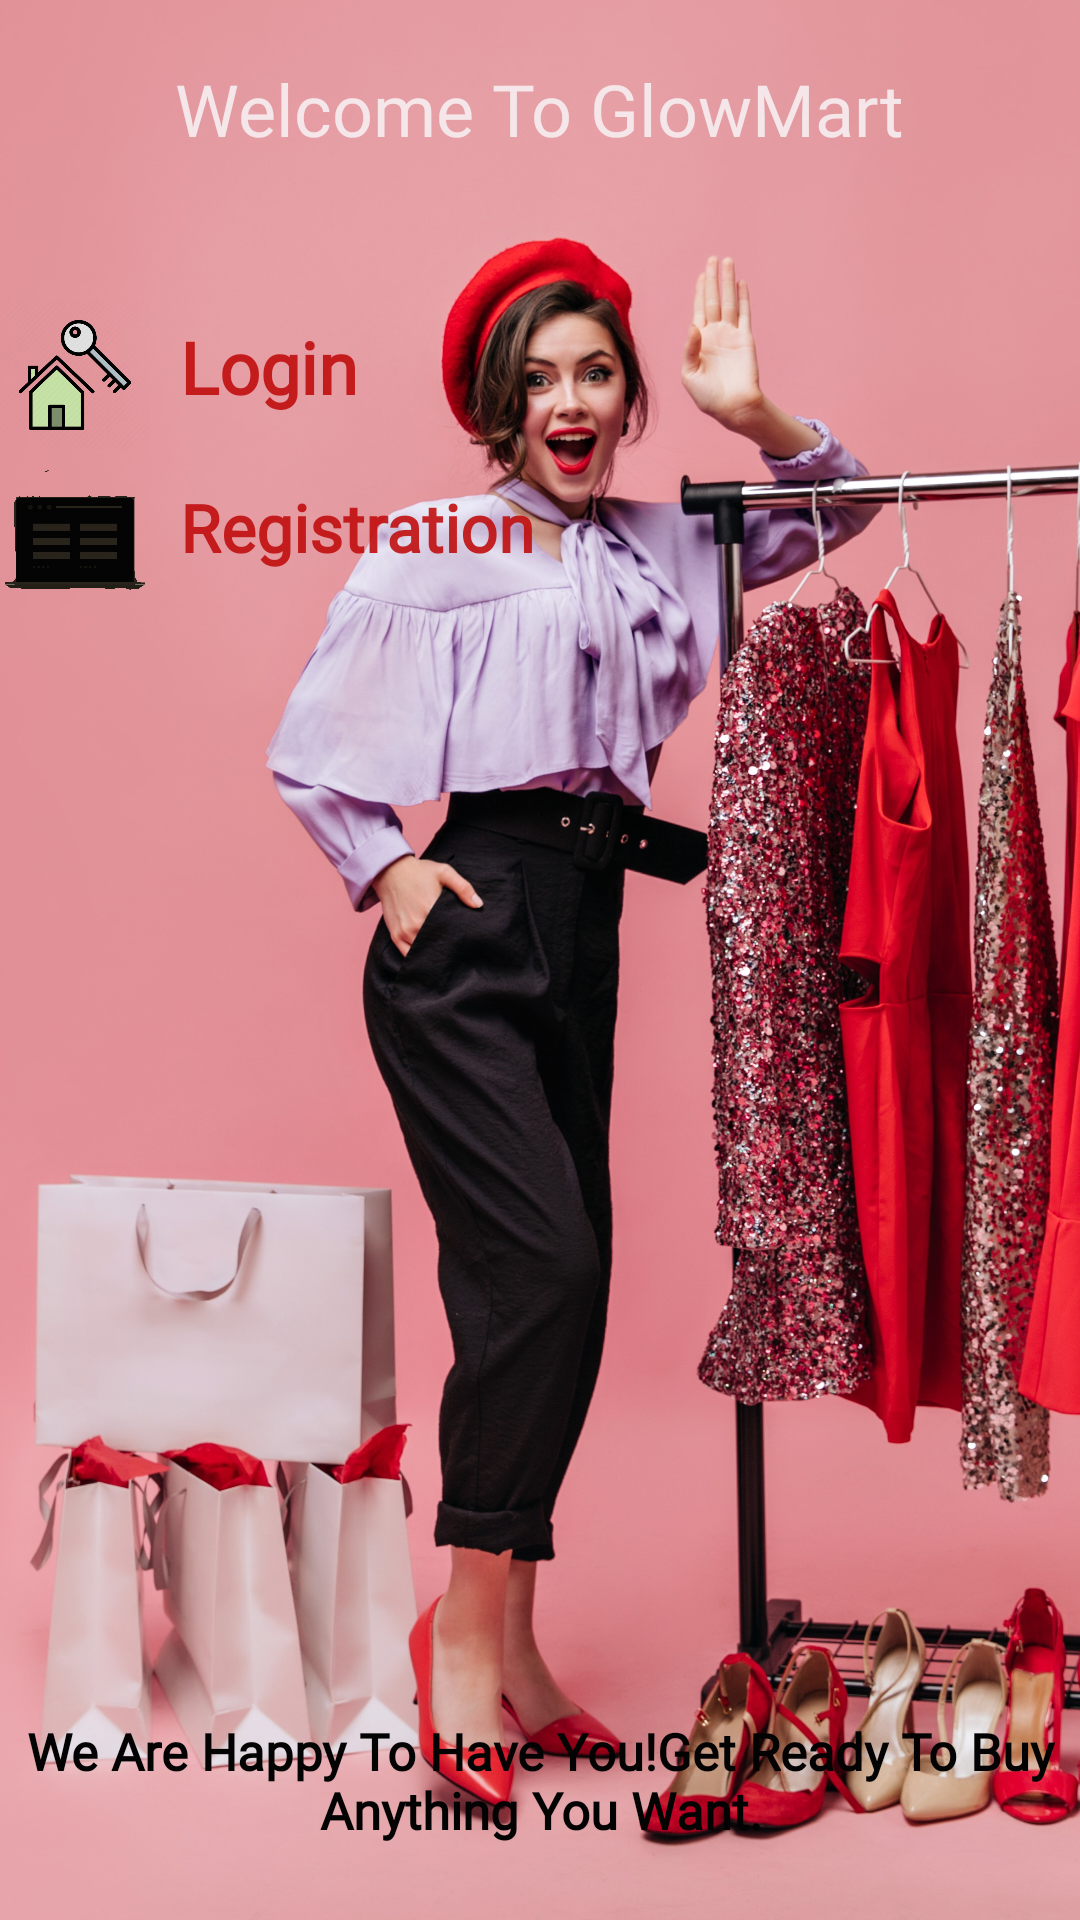

Where icons sit on this 1080 × 1920 app screen, as box=[x1, y1, x2, y2]:
key: box=[19, 320, 131, 430]
